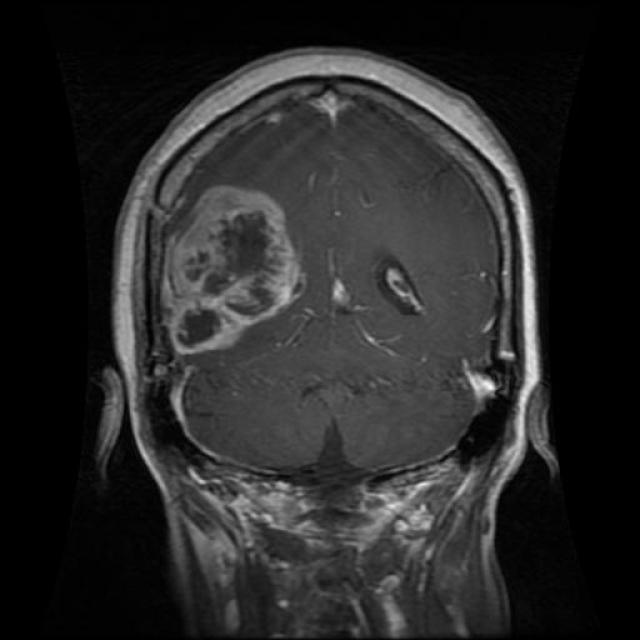glioma: (165, 184, 310, 358)
